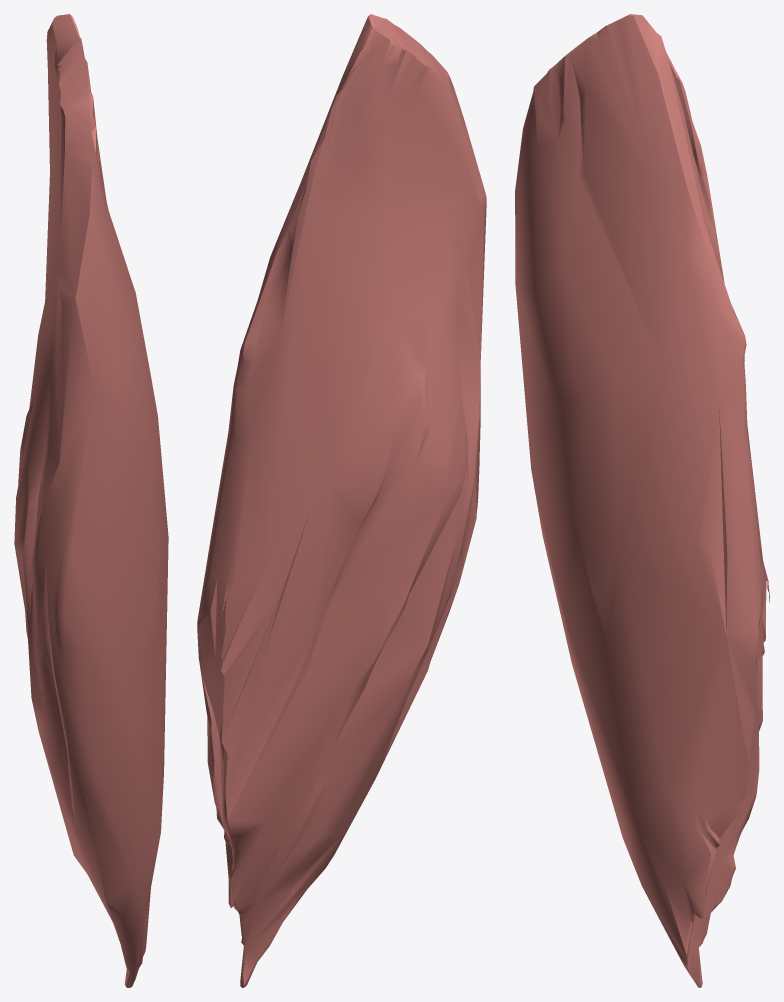
Rendered from fma22426_fj1438m.glb.
3 renders of one model, left to right at view 1: azimuth 30°, elevation 25°; view 2: azimuth 150°, elevation 25°; view 3: azimuth 270°, elevation 25°, orthographic. The views are drawn at different scales.
Visible parts, largest first — view 1: FMA22426_FJ1438M; view 2: FMA22426_FJ1438M; view 3: FMA22426_FJ1438M.
Boxes of the visible parts, x1,y1,x2,y2 form: FMA22426_FJ1438M: [14, 14, 168, 987]; FMA22426_FJ1438M: [197, 14, 486, 987]; FMA22426_FJ1438M: [515, 14, 769, 987].
Bounding box in the file's own units: 0.0318 × 0.1589 × 0.0394.
